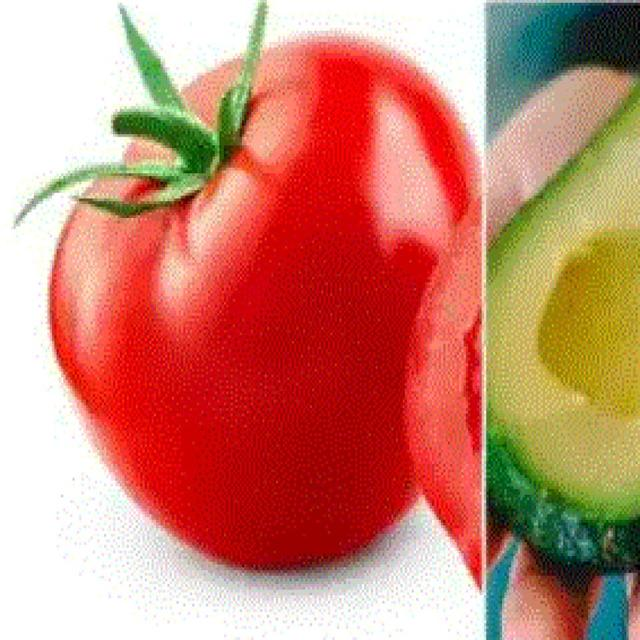Healthy Fruit: (47, 208, 298, 351)
